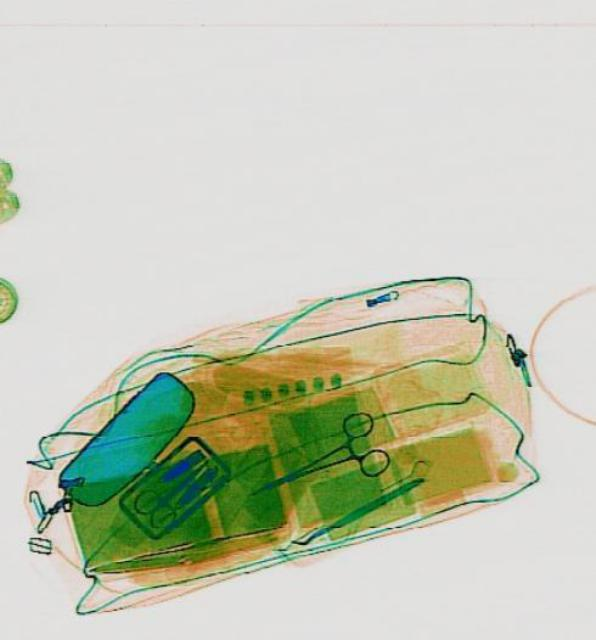Scissors: (230, 404, 392, 526), (124, 442, 223, 534)
